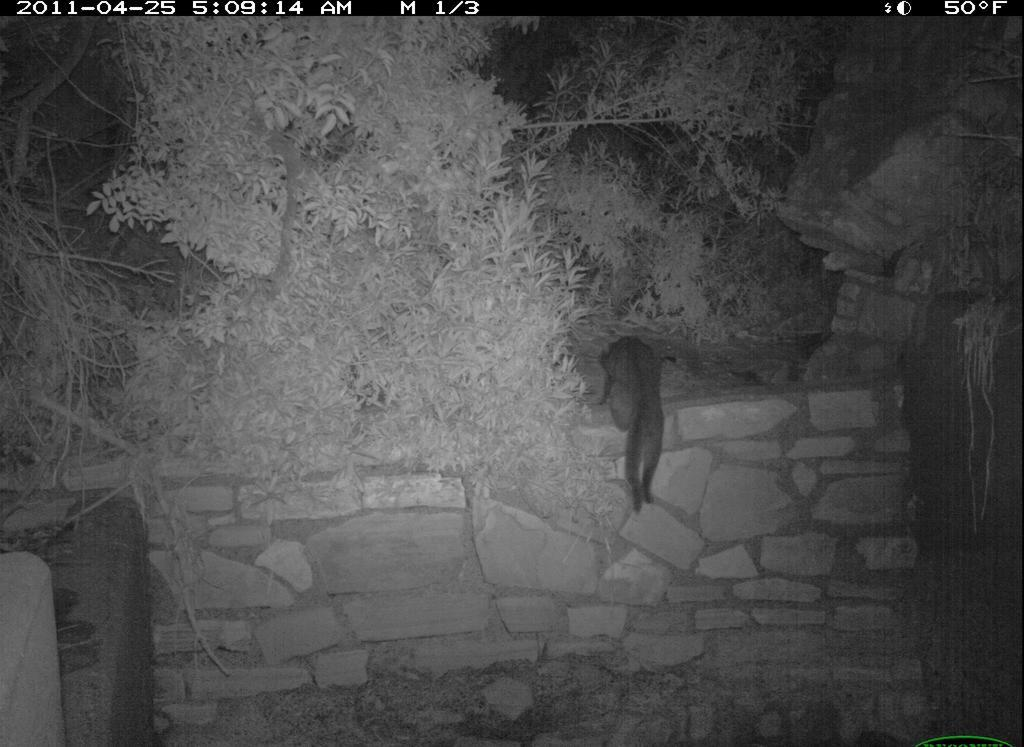cat: (587, 314, 679, 523)
